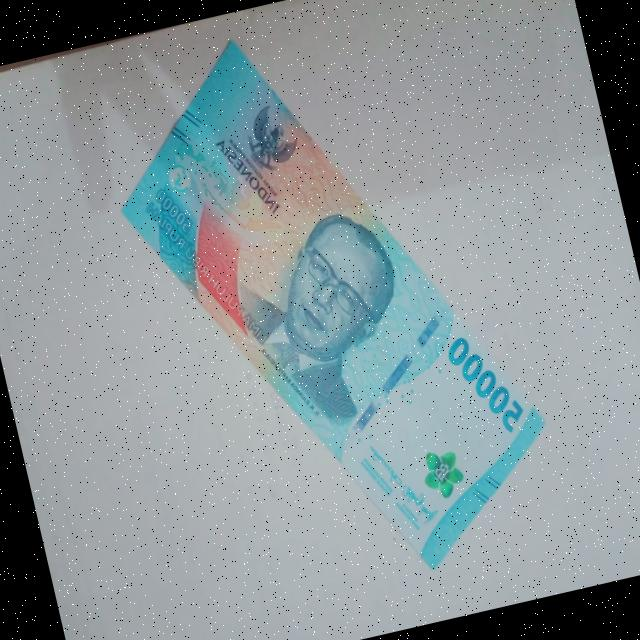50K: (80, 0, 578, 629)
